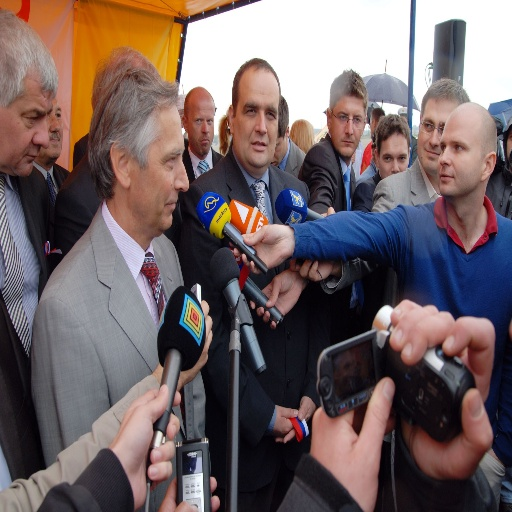hand: (312, 298, 493, 502), (309, 373, 398, 511), (110, 385, 182, 511), (159, 296, 214, 385), (228, 221, 294, 276), (251, 268, 304, 333), (272, 394, 318, 445), (157, 474, 220, 511), (289, 255, 333, 283), (271, 404, 298, 437), (320, 205, 336, 218)
